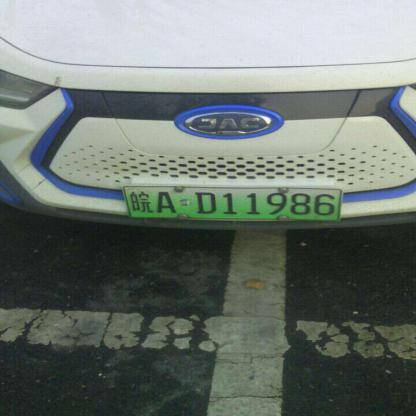lp: (122, 185, 343, 220)
